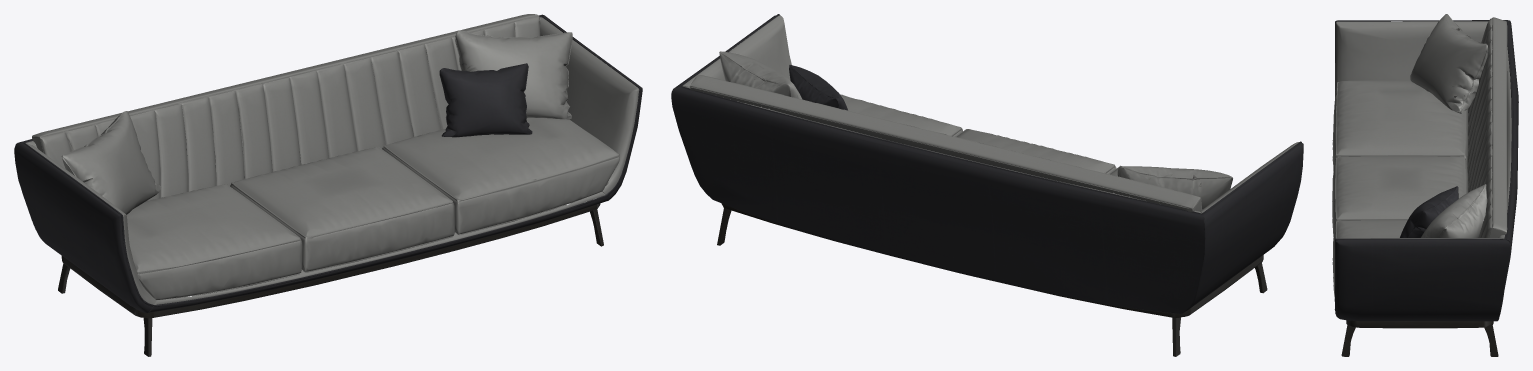
The model's file is sofa_multi_seat_sofa_31829bd2-9573-5610-bfef-c2f7f114d4a4.glb.
3 renders of one model, left to right at view 1: azimuth 30°, elevation 25°; view 2: azimuth 150°, elevation 25°; view 3: azimuth 270°, elevation 25°, orthographic. The views are drawn at different scales.
Visible parts, largest first — view 1: raw_model.obj; view 2: raw_model.obj; view 3: raw_model.obj.
Boxes of the visible parts, left/top/right/bottom form: raw_model.obj: left=14, top=14, right=642, bottom=356; raw_model.obj: left=671, top=14, right=1303, bottom=356; raw_model.obj: left=1332, top=14, right=1518, bottom=356.
Bounding box in the file's own units: 2.21 × 0.678 × 0.7809.
1 material, 1 textured.
